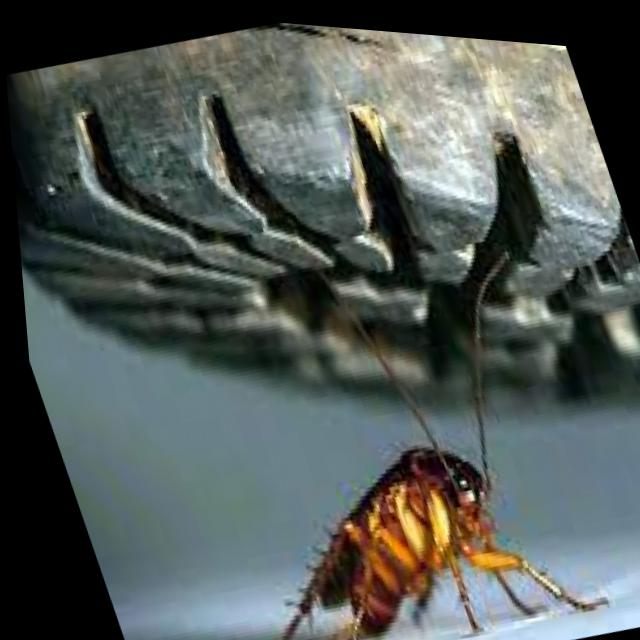Cockroach: (102, 194, 634, 640)
